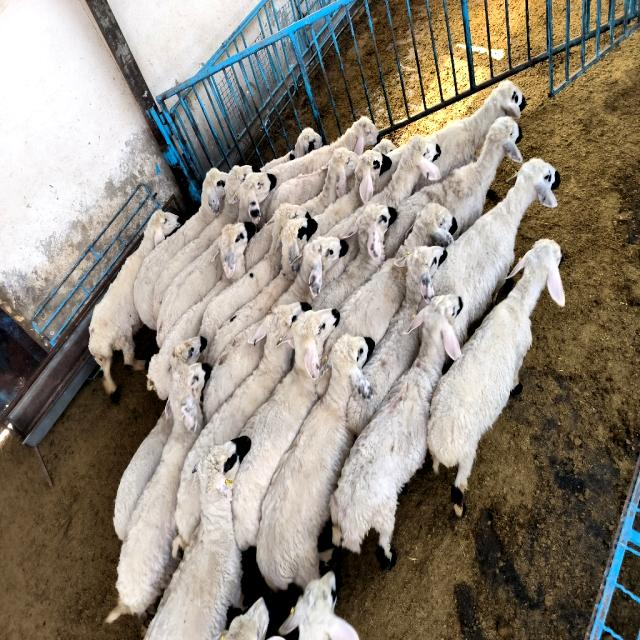sheep: (428, 240, 565, 515), (331, 295, 462, 567), (172, 302, 309, 552), (258, 335, 374, 589), (232, 310, 339, 551), (108, 365, 206, 620), (432, 158, 560, 344), (145, 435, 251, 638), (384, 117, 522, 258), (348, 250, 440, 437), (89, 210, 180, 396), (208, 218, 316, 362), (154, 167, 252, 319), (134, 168, 226, 328), (160, 223, 255, 352), (428, 80, 526, 178), (312, 203, 396, 309), (324, 258, 406, 354), (269, 117, 379, 186), (114, 412, 172, 540), (156, 238, 222, 346), (314, 150, 391, 236), (202, 325, 265, 421), (279, 572, 359, 640), (370, 135, 440, 207), (278, 237, 348, 305), (301, 148, 359, 217), (400, 203, 458, 256), (260, 128, 322, 171), (238, 172, 276, 222), (170, 337, 205, 371)
